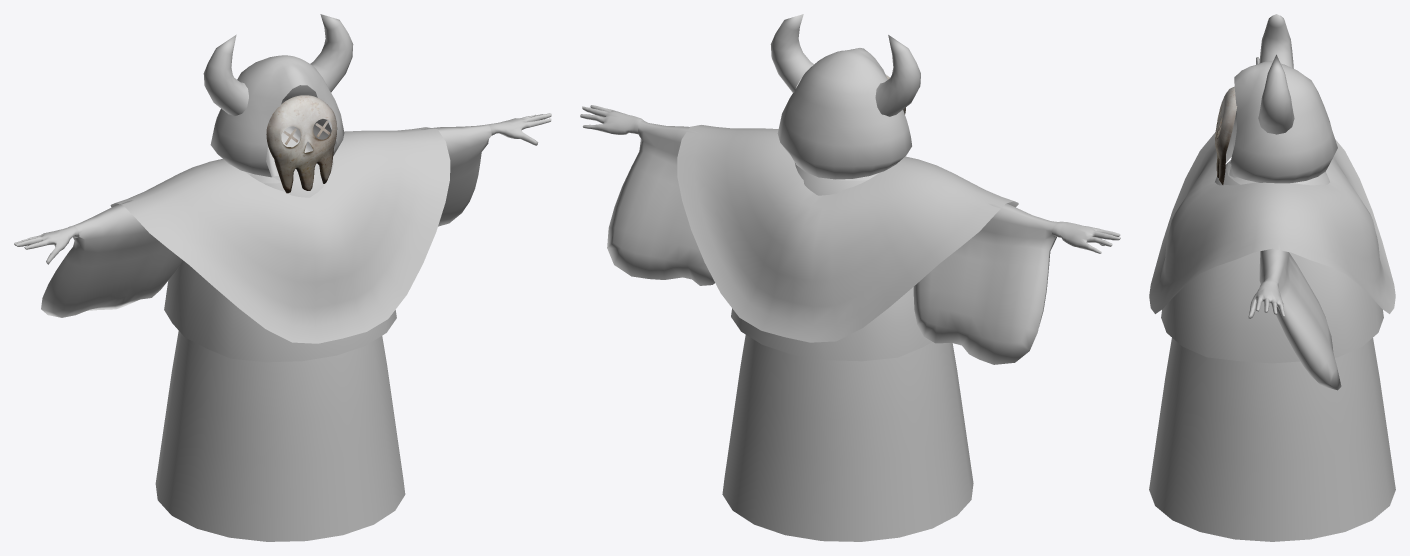
File: ChMD_Enemy02.fbx
3 renders of one model, left to right at view 1: azimuth 30°, elevation 25°; view 2: azimuth 150°, elevation 25°; view 3: azimuth 270°, elevation 25°, orthographic. The views are drawn at different scales.
Parts seen in each view (by area): view 1: yuremono01, yuremono02, arm, yuremono03, face, corner; view 2: yuremono01, yuremono02, arm, yuremono03, corner; view 3: yuremono01, yuremono02, yuremono03, arm, corner, face.
Part boxes in pixels (x1,y1,x2,y2): yuremono01: (155, 55, 405, 541); yuremono02: (110, 127, 450, 343); arm: (14, 113, 551, 317); yuremono03: (164, 163, 396, 362); face: (266, 95, 337, 193); corner: (203, 14, 353, 115); yuremono01: (722, 48, 973, 541); yuremono02: (677, 125, 1018, 342); arm: (580, 105, 1120, 364); yuremono03: (731, 163, 932, 361); corner: (770, 14, 920, 116); yuremono01: (1149, 61, 1395, 541); yuremono02: (1149, 132, 1395, 313); yuremono03: (1161, 160, 1383, 363); arm: (1248, 57, 1341, 390); corner: (1258, 14, 1294, 134); face: (1215, 86, 1237, 184).
Size of the model in its own units: 229 by 190 by 93.23.
